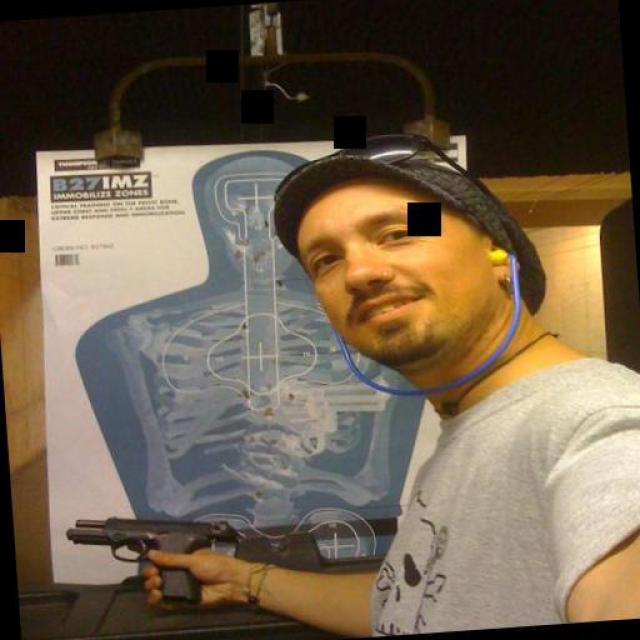gun: (56, 501, 252, 619)
